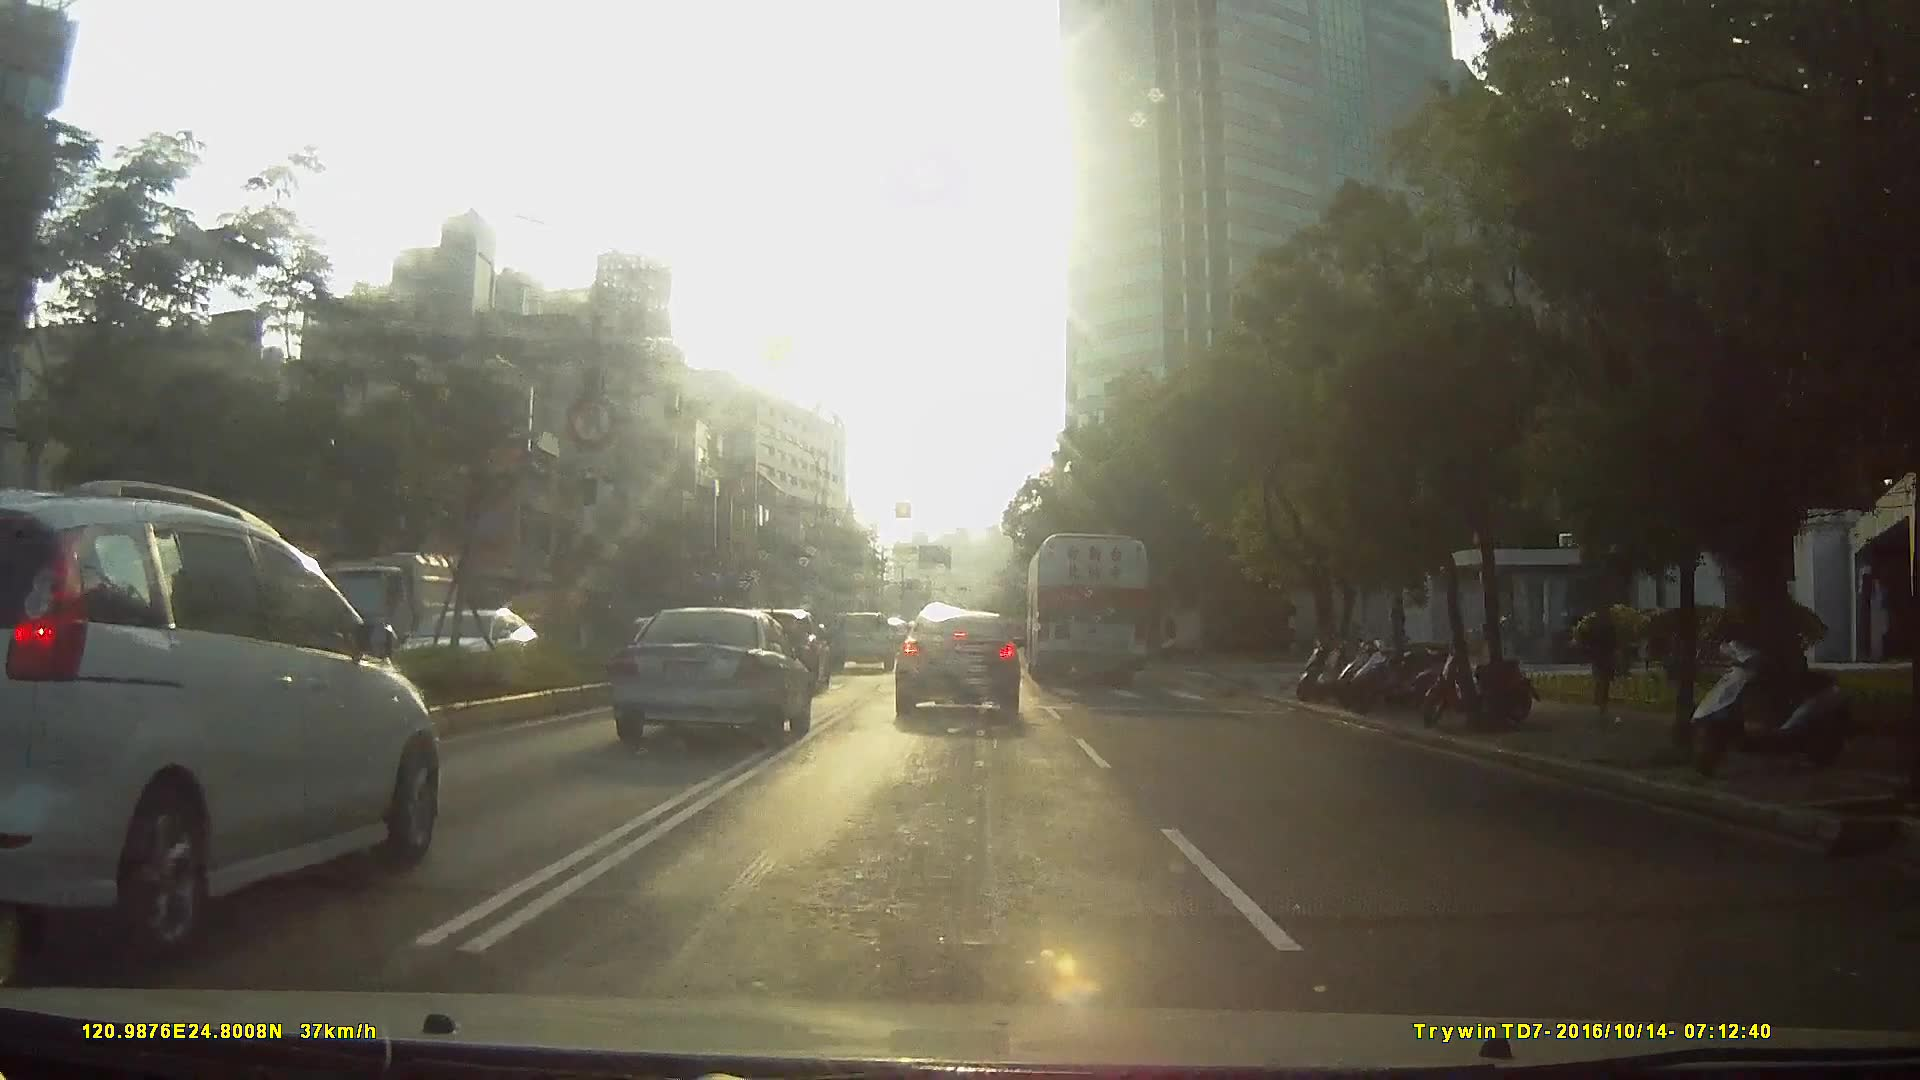pedestrian: (1581, 604, 1632, 717)
vehicle: (1, 470, 458, 970), (250, 556, 684, 868), (599, 602, 807, 747), (1022, 530, 1149, 689), (287, 548, 441, 660), (891, 600, 1021, 720), (408, 606, 543, 692), (825, 608, 893, 671)
